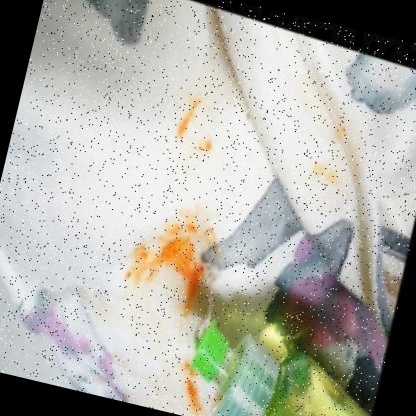kimchi: (119, 201, 222, 296), (167, 82, 210, 145), (179, 378, 209, 415), (172, 283, 201, 317), (312, 163, 343, 189), (198, 133, 219, 154), (179, 361, 192, 375), (338, 124, 349, 140)
